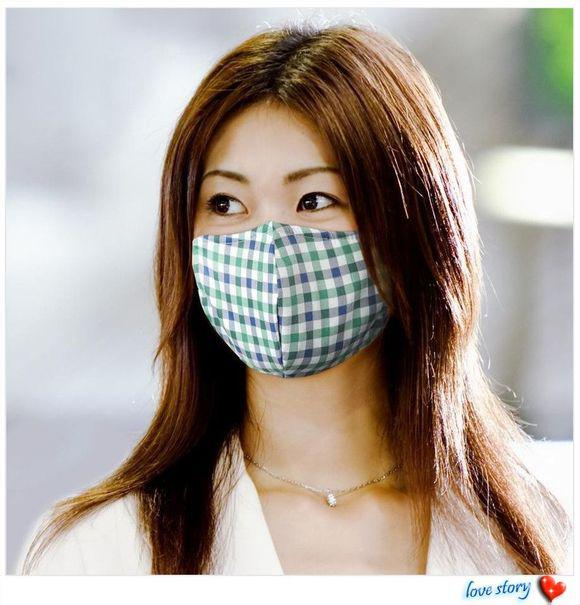OK: (187, 147, 407, 367)
